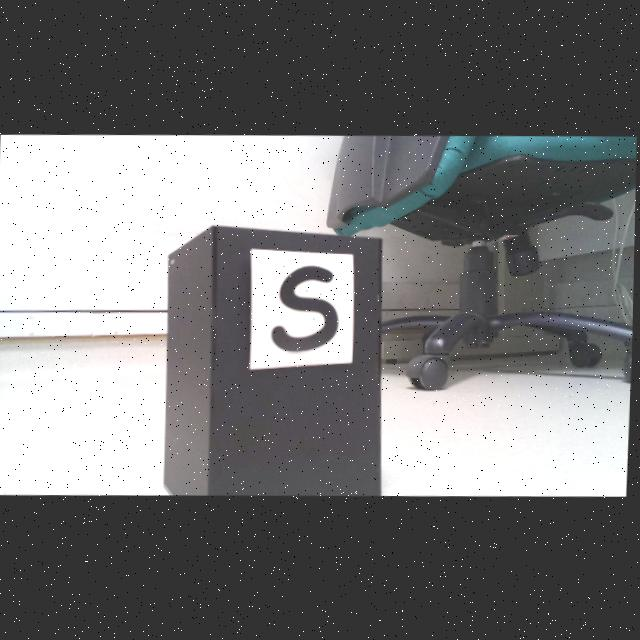S: (272, 267, 340, 353)
